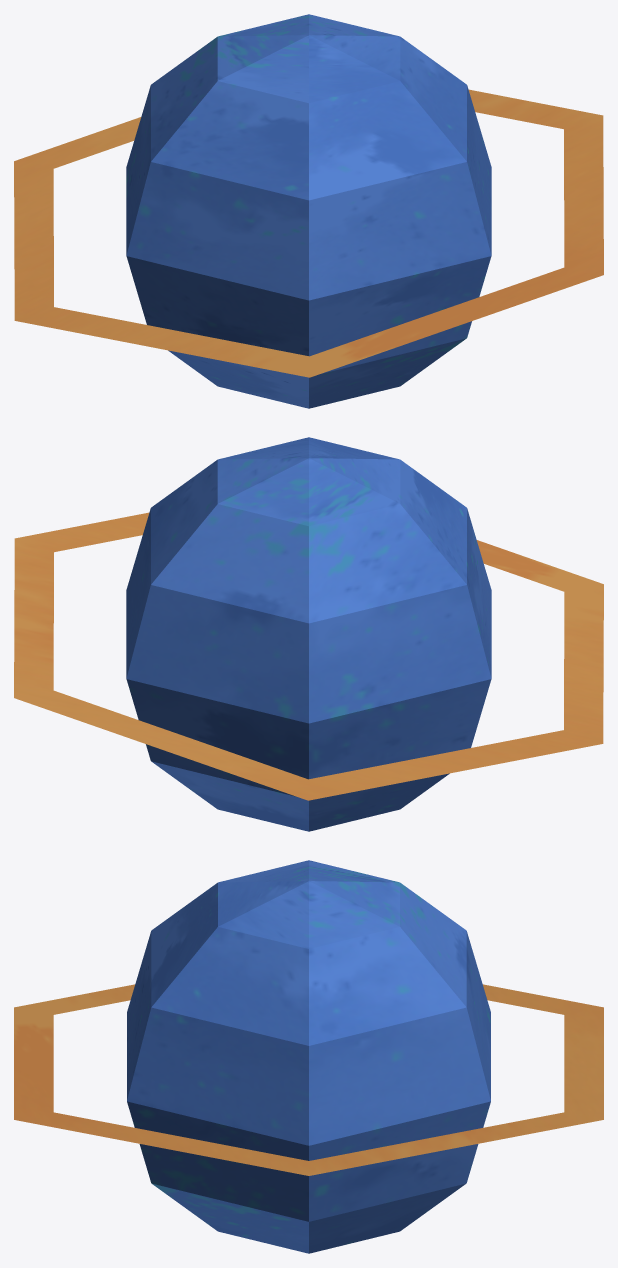
File: SM_planet1.fbx
The picture shows the model from 3 angles, top to bottom: view 1: azimuth 30°, elevation 25°; view 2: azimuth 150°, elevation 25°; view 3: azimuth 270°, elevation 25°; orthographic projection.
Visible parts, largest first — view 1: planet1; view 2: planet1; view 3: planet1.
Part boxes in pixels (bbox=[...]): planet1: bbox=[14, 14, 603, 408]; planet1: bbox=[14, 437, 603, 831]; planet1: bbox=[14, 860, 603, 1253].
Size of the model in its own units: 27.36 by 15.67 by 23.81.
